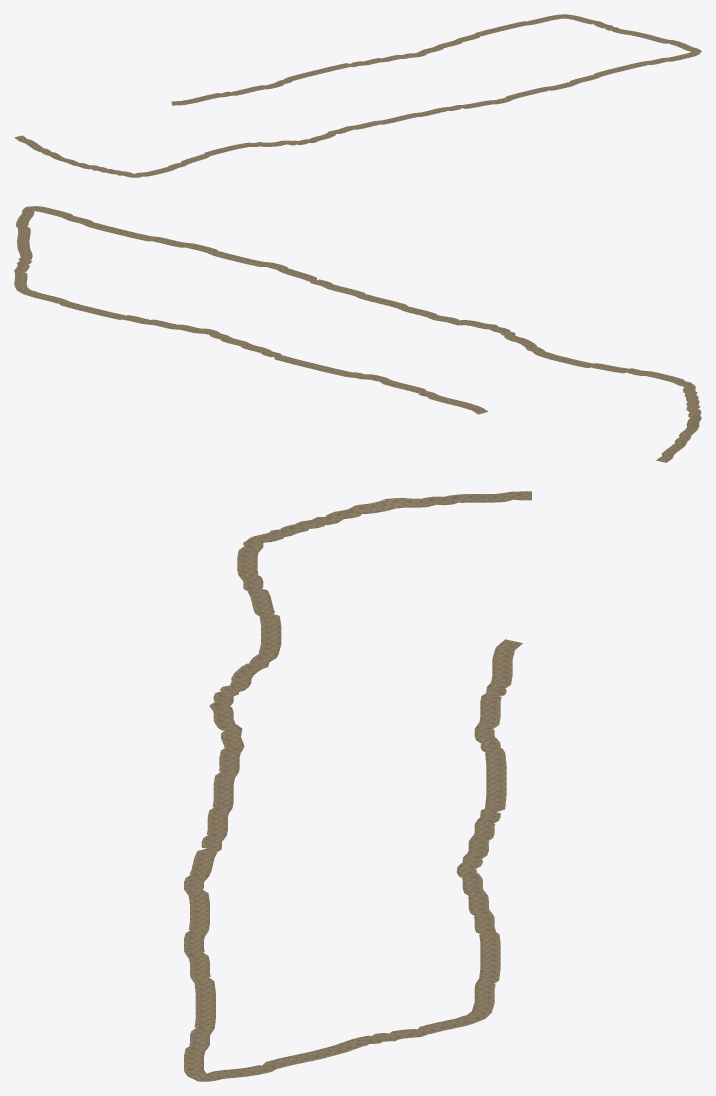
Rendered from RD-ROAD-001.obj.
The picture shows the model from 3 angles, top to bottom: view 1: azimuth 30°, elevation 25°; view 2: azimuth 150°, elevation 25°; view 3: azimuth 270°, elevation 25°; orthographic projection. The views are drawn at different scales.
Visible parts, largest first — view 1: RD-ROAD-001; view 2: RD-ROAD-001; view 3: RD-ROAD-001.
Boxes of the visible parts, x1=… form: RD-ROAD-001: x1=14, y1=14, x2=701, y2=177; RD-ROAD-001: x1=14, y1=206, x2=701, y2=462; RD-ROAD-001: x1=184, y1=491, x2=531, y2=1081.
Bounding box in the file's own units: 276 × 0.5274 × 68.8.
Materials: 1 (1 with a texture image).
